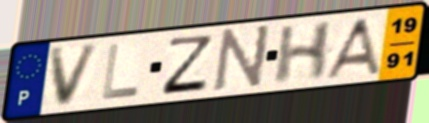A: (320, 16, 384, 82)
H: (271, 18, 336, 87)
L: (99, 41, 142, 102)
N: (209, 22, 274, 94)
V: (47, 41, 103, 110)
Z: (158, 34, 216, 97)
